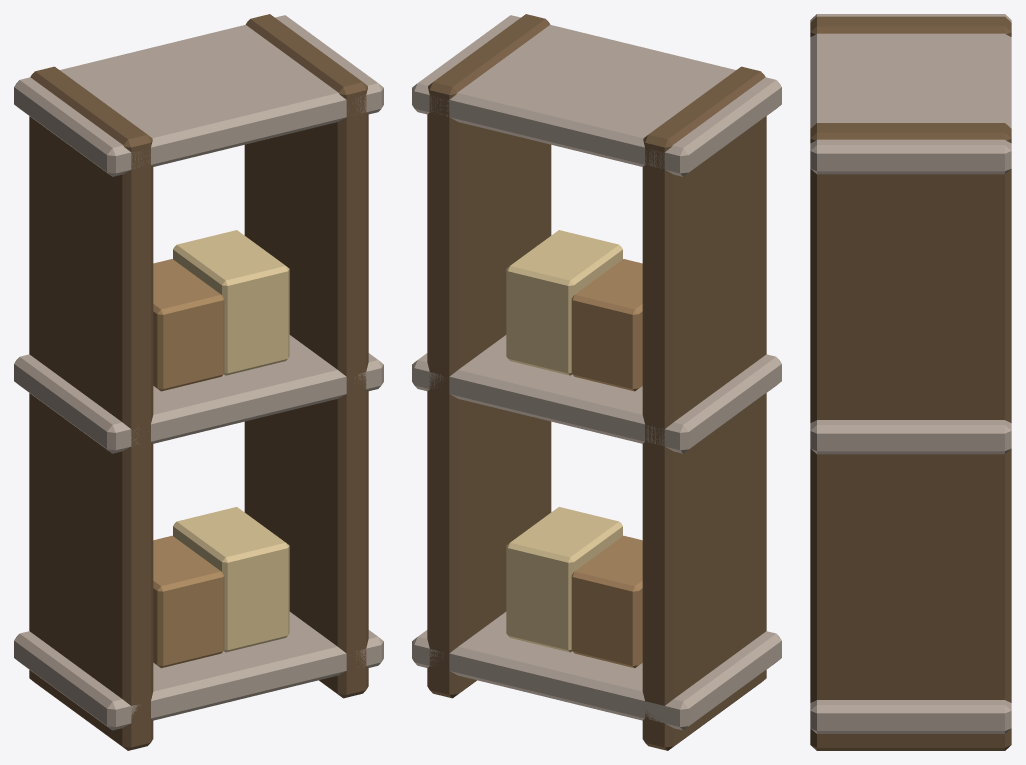
File: display_shelf.lod1.glb
3 renders of one model, left to right at view 1: azimuth 30°, elevation 25°; view 2: azimuth 150°, elevation 25°; view 3: azimuth 270°, elevation 25°, orthographic.
Size of the model in its own units: 0.9 by 1.9 by 0.56.
